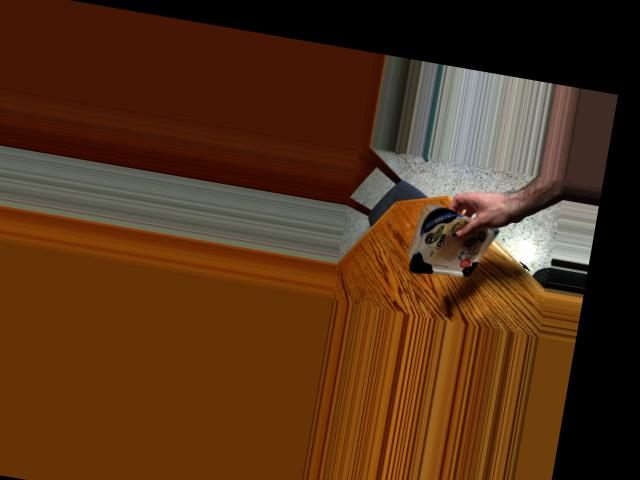cheese: (401, 198, 486, 278)
